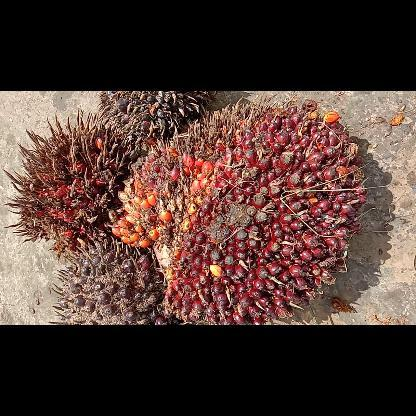Kurang masak: (52, 236, 164, 324)
TBS abnormal: (98, 90, 212, 148)
TBS masak: (111, 93, 372, 324)
Terlalu masak: (2, 110, 142, 258)
